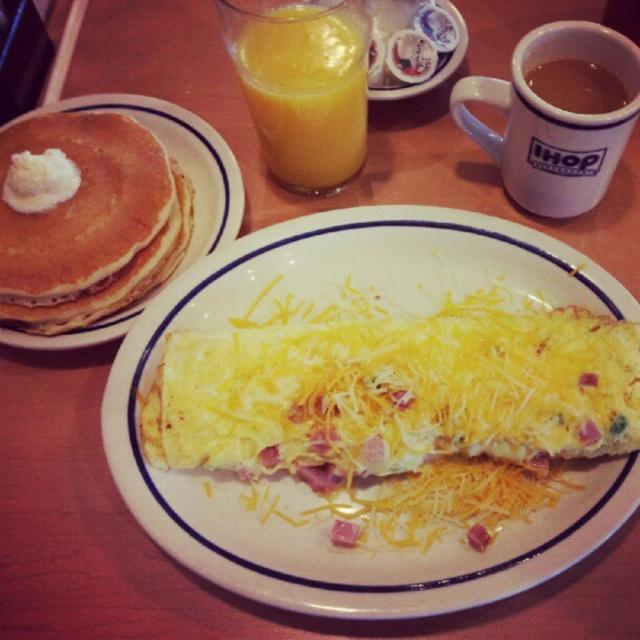Coffee: (523, 58, 634, 114)
Tea: (528, 58, 623, 113)
